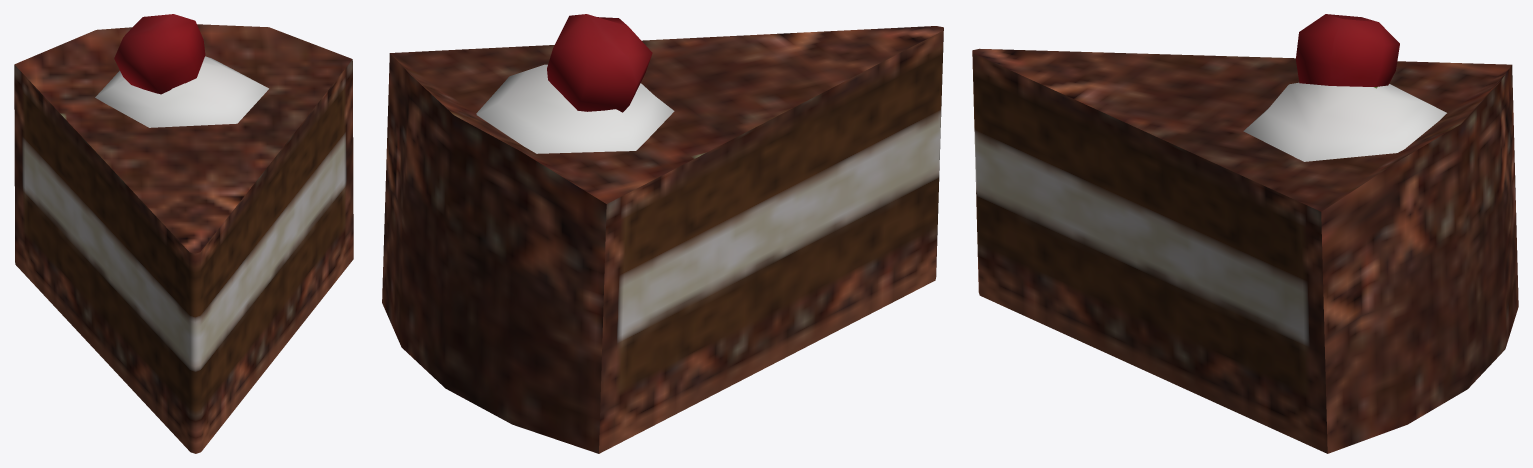
File: H_Sapph_CakeSliceCherry.fbx
The picture shows the model from 3 angles, left to right: view 1: azimuth 30°, elevation 25°; view 2: azimuth 150°, elevation 25°; view 3: azimuth 270°, elevation 25°; orthographic projection. The views are drawn at different scales.
Visible parts, largest first — view 1: CakeSlice_Icing; view 2: CakeSlice_Icing; view 3: CakeSlice_Icing.
Boxes of the visible parts, x1,y1,x2,y2 form: CakeSlice_Icing: [14, 14, 353, 453]; CakeSlice_Icing: [382, 14, 943, 453]; CakeSlice_Icing: [972, 14, 1518, 453].
Bounding box in the file's own units: 13.38 × 12.13 × 17.19.
